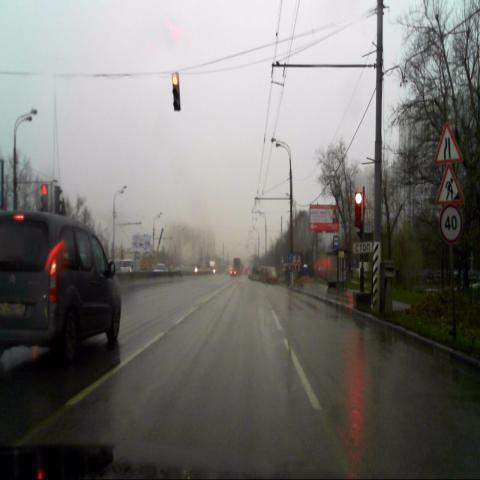1_20_2: (434, 122, 461, 163)
